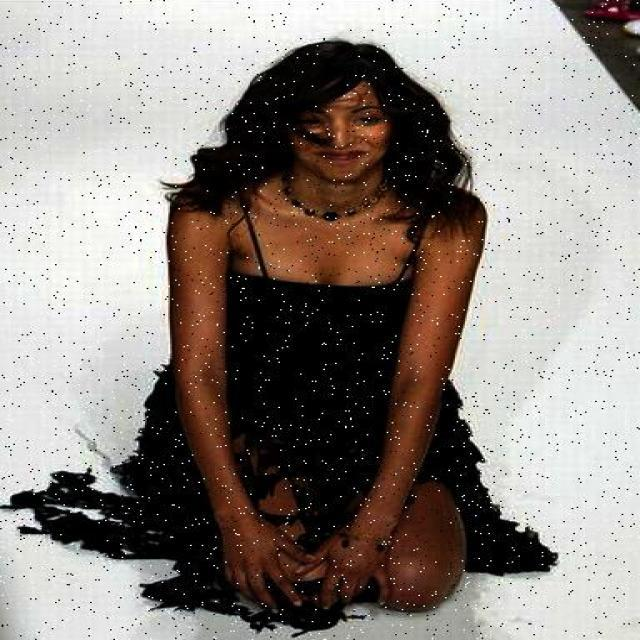fall: (144, 48, 556, 628)
